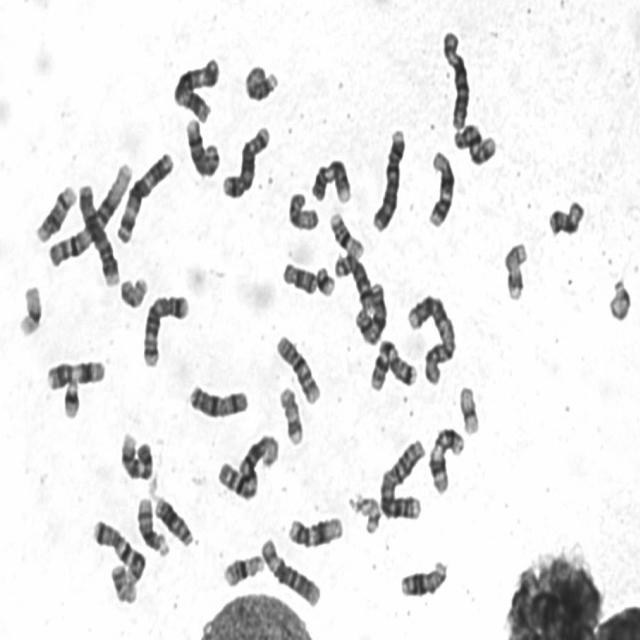A1: (46, 157, 136, 268), (214, 428, 282, 503)
A2: (403, 289, 458, 387), (377, 433, 429, 522)
A3: (113, 146, 176, 245), (170, 51, 222, 124)
B4: (76, 179, 121, 287), (370, 124, 408, 234)
B5: (219, 121, 272, 200), (140, 289, 191, 370)
C10: (273, 329, 323, 407), (450, 119, 499, 168)
C11: (427, 422, 467, 497), (44, 354, 107, 392)
C12: (425, 147, 456, 229), (286, 511, 346, 550)
C6: (258, 533, 324, 609), (439, 26, 472, 132)
C7: (90, 514, 148, 585), (366, 334, 419, 394)
C8: (332, 248, 376, 313), (182, 114, 222, 178)
C9: (309, 154, 353, 205), (118, 427, 155, 482)
D13: (151, 492, 195, 550), (398, 554, 451, 599)
D14: (33, 180, 78, 244), (135, 492, 171, 558)
D15: (242, 60, 280, 103), (286, 186, 320, 232)
E16: (326, 207, 365, 260), (220, 549, 266, 590)
E17: (501, 236, 530, 302), (276, 382, 305, 447)
E18: (546, 195, 587, 239), (280, 257, 318, 296)
F19: (16, 280, 44, 338), (456, 381, 481, 437)
F20: (107, 558, 140, 605), (117, 272, 150, 310)
G21: (60, 375, 82, 420), (314, 261, 337, 298)
G22: (351, 489, 382, 536), (606, 274, 633, 323)
X: (186, 380, 251, 420), (352, 276, 388, 346)
